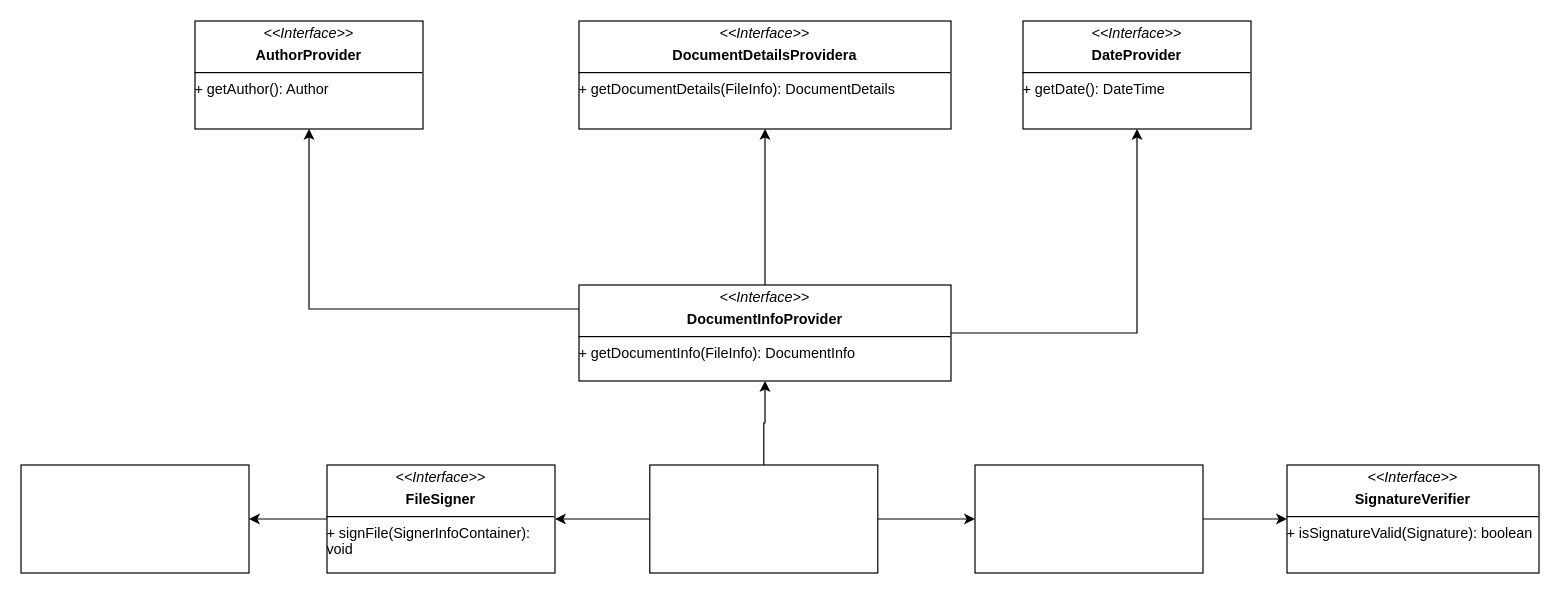
The diagram is 1560 pixels wide and 594 high, and some of its shapes have lost their labels. Here are the shapes that lost their labels. From the top down, the centre of each, then its label:
At [134,518]: "<<Interface>> SignatureProvider + getSignature(FileInfo): Signature".
At [763,518]: "<<Interface>> GUI + onSignFileClicked(): void + onVerifyFileClicked(): void".
At [1088,518]: "<<Interface>> FileVerifier + verifyFile(SignerInfo): void".
